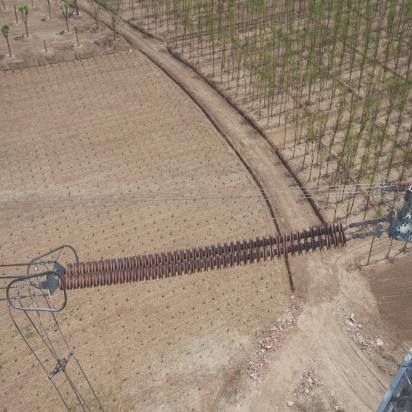insulator: (55, 219, 363, 294)
